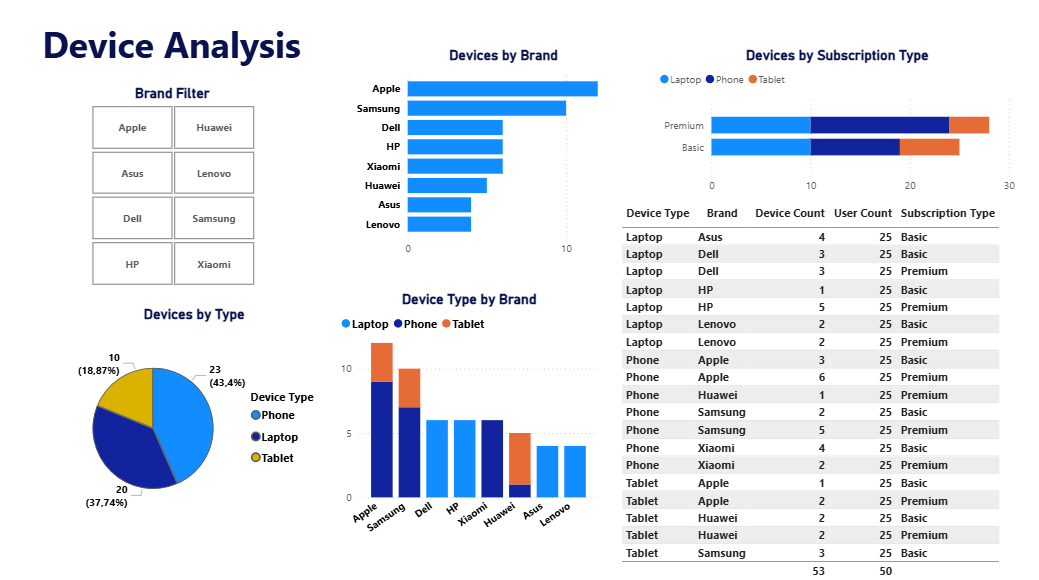

What the dashboard file says about the page in this screenshot:
{"tool":"powerbi","page":{"name":"Device Analysis","canvas":[1280,720],"ordinal":3},"visuals":[{"type":"textbox","box":[28.3,33.3,393.3,75],"z":0},{"type":"pieChart","title":"Devices by Type","fields":{"Category":["Devices.device_type"],"Y":["CountNonNull(Devices.device_id)"]},"box":[82.1,379.1,340.3,274.6],"z":1000},{"type":"clusteredBarChart","title":"Devices by Brand","fields":{"Category":["Devices.brand"],"Y":["CountNonNull(Devices.device_id)"]},"box":[440.3,70.1,362.7,259.7],"z":2000},{"type":"tableEx","title":"Device Performance Summary","fields":{"Values":["Devices.device_type","Devices.brand","CountNonNull(Devices.device_id)","Users.user_id","Users.subscription_type"]},"box":[756.7,232.8,523.9,480.6],"z":3000},{"type":"slicer","title":"Brand Filter","fields":{"Values":["Devices.brand"]},"box":[104.5,114.9,243.3,246.3],"z":4000},{"type":"columnChart","title":"Device Type by Brand","fields":{"Category":["Devices.brand"],"Y":["CountNonNull(Devices.device_id)"],"Series":["Devices.device_type"]},"box":[422.4,361.2,316.4,309],"z":5000},{"type":"barChart","title":"Devices by Subscription Type","fields":{"Category":["Users.subscription_type"],"Y":["CountNonNull(Devices.device_id)"],"Series":["Devices.device_type"]},"box":[803,70.1,434.3,183.6],"z":6000}]}

Visuals, with their boxes in screenshot pixels (x1, y1, x2, y2), scaled from the page's 1280x720 canvas onto the 1039x580 screenshot:
textbox: [23,27,342,87]
"Devices by Type" pieChart: [67,305,343,527]
"Devices by Brand" clusteredBarChart: [357,56,652,266]
"Device Performance Summary" tableEx: [614,188,1038,575]
"Brand Filter" slicer: [85,93,282,291]
"Device Type by Brand" columnChart: [343,291,600,540]
"Devices by Subscription Type" barChart: [652,56,1004,204]
